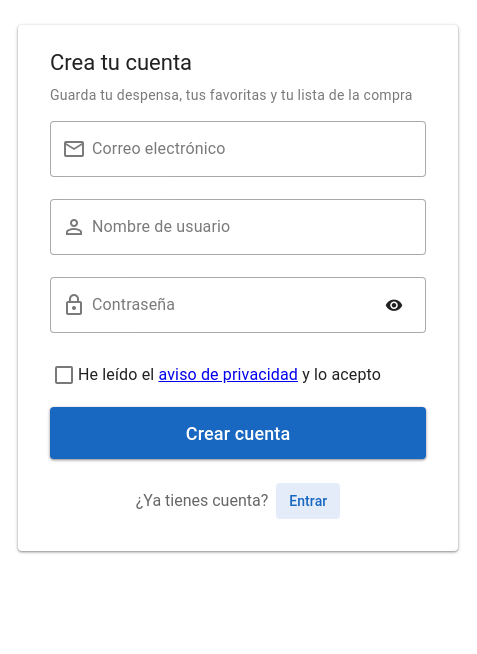
Scenario: RegisterView › no crea la cuenta si no se acepta el aviso de privacidad
In the field labelled "Correo electrónico": (256, 149) left=86, top=121, right=426, bottom=177, type "ana@example.com"
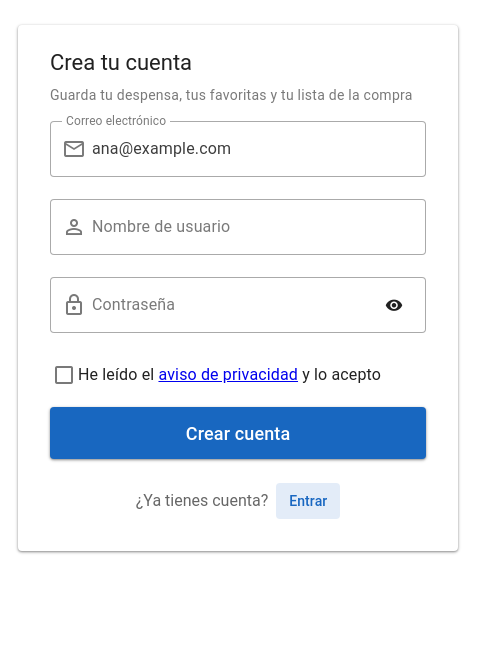
In the field labelled "Nombre de usuario": (256, 227) left=86, top=199, right=426, bottom=255, type "ana"
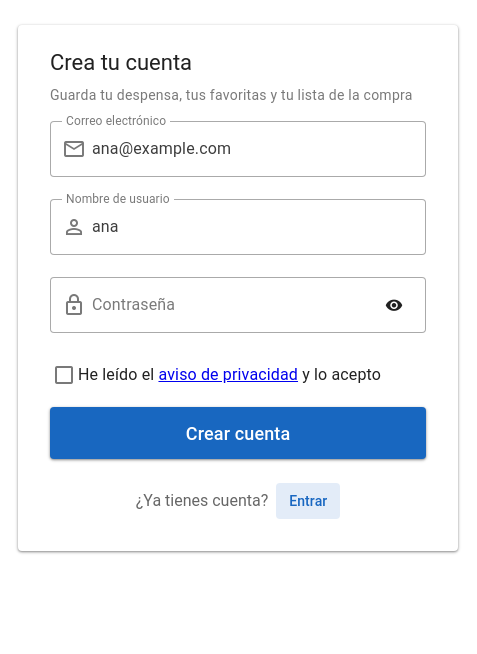
In the password field labelled "Contraseña": (230, 305) left=86, top=277, right=374, bottom=333, type "Contrasena-Segura-91"
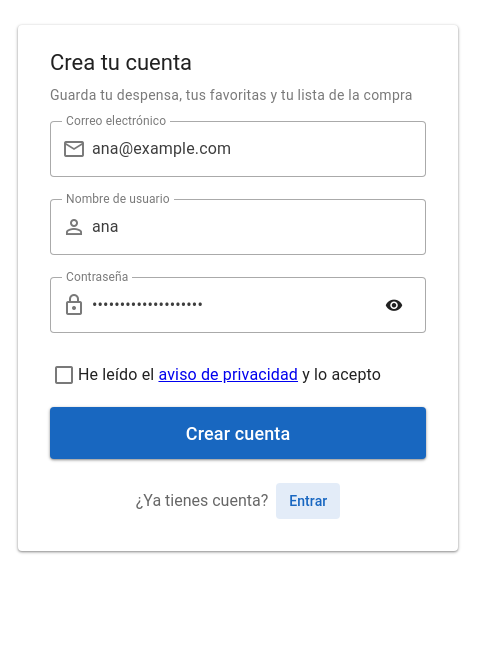
Submit the form, box left=50, top=121, right=426, bottom=459
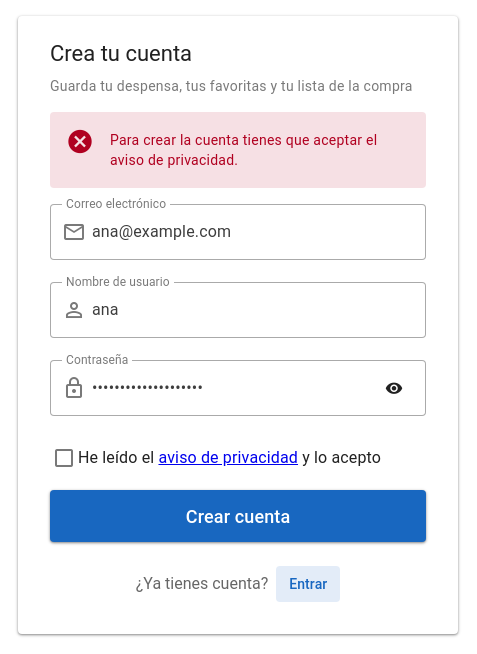
Expected: the message "Para crear la cuenta tienes que aceptar el aviso de privacidad." is shown, left=50, top=112, right=426, bottom=188
